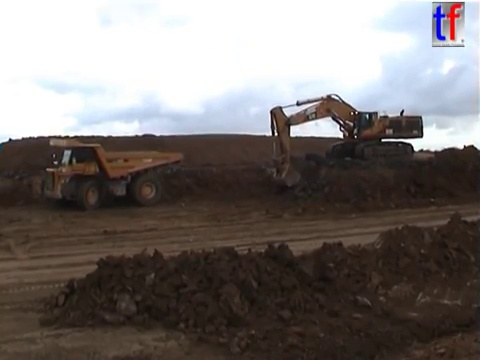excavator: (264, 91, 425, 189)
truck: (41, 136, 185, 212)
